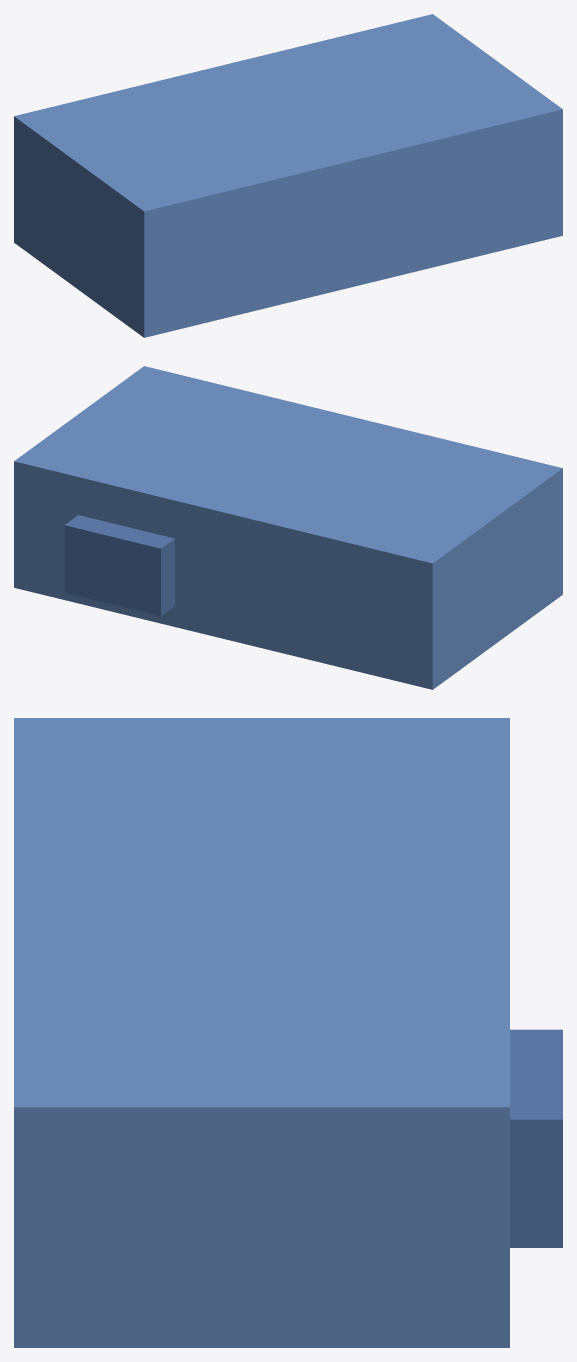
File: macacao_cintura.glb
The picture shows the model from 3 angles, top to bottom: view 1: azimuth 30°, elevation 25°; view 2: azimuth 150°, elevation 25°; view 3: azimuth 270°, elevation 25°; orthographic projection. The views are drawn at different scales.
Visible parts, largest first — view 1: macacao_cintura; view 2: macacao_cintura; view 3: macacao_cintura.
Boxes of the visible parts, left/top/right/bottom form: macacao_cintura: left=14, top=14, right=562, bottom=337; macacao_cintura: left=14, top=366, right=562, bottom=689; macacao_cintura: left=14, top=718, right=562, bottom=1347.
Bounding box in the file's own units: 0.52 × 0.15 × 0.31.
